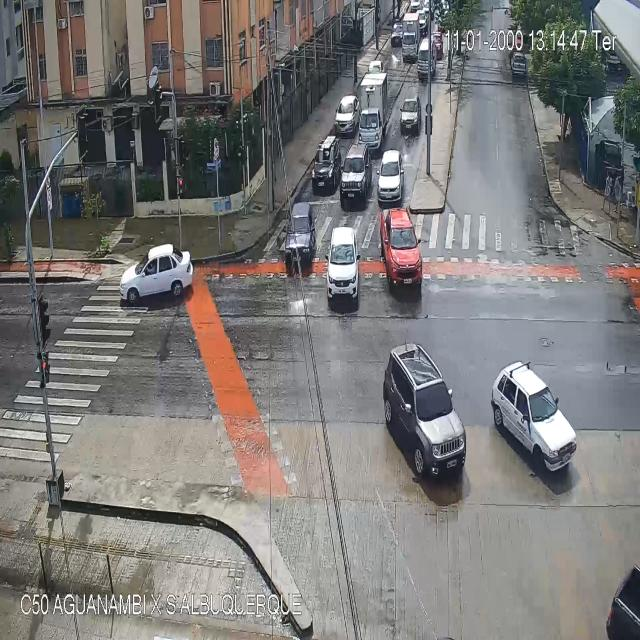Car: (384, 345, 467, 480), (493, 362, 578, 477), (119, 244, 191, 301), (379, 208, 424, 295), (324, 226, 360, 309), (285, 198, 316, 275), (341, 145, 371, 212), (312, 137, 342, 192), (376, 148, 404, 202), (334, 95, 360, 133), (417, 37, 438, 78), (400, 97, 420, 136), (417, 10, 429, 36), (512, 52, 526, 74), (391, 22, 402, 46), (410, 0, 420, 14)
Truck: (359, 73, 387, 150), (402, 13, 419, 63)
